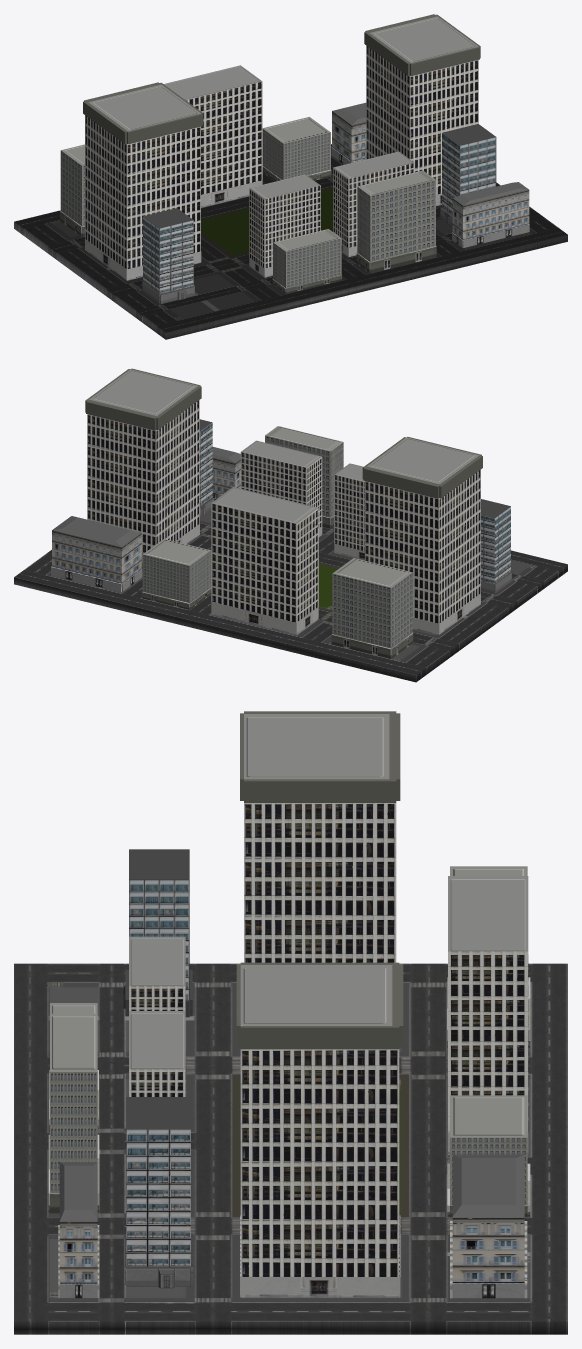
The model's file is input.glb.
3 renders of one model, top to bottom at view 1: azimuth 30°, elevation 25°; view 2: azimuth 150°, elevation 25°; view 3: azimuth 270°, elevation 25°, orthographic. The views are drawn at different scales.
Parts seen in each view (by area): view 1: Plane001_Mesh, Box087_Mesh.014, Box072_Mesh.002, Box086_Mesh.013, Box079_Mesh.007, Box076_Mesh.004, Box067_Mesh.001, Box075_Mesh.003, Box085_Mesh.012, Box088_Mesh.015, Box078_Mesh.006, Box077_Mesh.005 (+2 smaller); view 2: Box087_Mesh.014, Box072_Mesh.002, Plane001_Mesh, Box086_Mesh.013, Box089_Mesh.016, Box090_Mesh.017, Box077_Mesh.005, Box088_Mesh.015, Box076_Mesh.004, Box067_Mesh.001, Box079_Mesh.007, Box085_Mesh.012 (+1 smaller); view 3: Plane001_Mesh, Box072_Mesh.002, Box087_Mesh.014, Box086_Mesh.013, Box085_Mesh.012, Box090_Mesh.017, Box079_Mesh.007, Box067_Mesh.001, Box075_Mesh.003, Box088_Mesh.015, Box077_Mesh.005, Box076_Mesh.004 (+1 smaller).
Part boxes in pixels (x1,y1,x2,y2): Plane001_Mesh: [14, 144, 567, 339]; Box087_Mesh.014: [83, 82, 203, 280]; Box072_Mesh.002: [364, 14, 480, 205]; Box086_Mesh.013: [164, 65, 262, 207]; Box079_Mesh.007: [356, 170, 436, 273]; Box076_Mesh.004: [249, 174, 320, 277]; Box067_Mesh.001: [142, 208, 194, 303]; Box075_Mesh.003: [452, 182, 529, 247]; Box085_Mesh.012: [440, 124, 496, 226]; Box088_Mesh.015: [262, 117, 331, 181]; Box078_Mesh.006: [272, 229, 341, 293]; Box077_Mesh.005: [333, 151, 414, 257]; Box087_Mesh.014: [362, 436, 482, 634]; Box072_Mesh.002: [85, 368, 201, 563]; Plane001_Mesh: [14, 510, 567, 682]; Box086_Mesh.013: [211, 487, 318, 635]; Box089_Mesh.016: [331, 558, 413, 658]; Box090_Mesh.017: [51, 516, 142, 592]; Box077_Mesh.005: [240, 440, 322, 536]; Box088_Mesh.015: [142, 539, 211, 609]; Box076_Mesh.004: [334, 463, 364, 560]; Box067_Mesh.001: [481, 499, 512, 593]; Box079_Mesh.007: [265, 426, 343, 528]; Box085_Mesh.012: [199, 419, 214, 517]; Plane001_Mesh: [14, 963, 567, 1334]; Box072_Mesh.002: [236, 962, 403, 1297]; Box087_Mesh.014: [240, 711, 400, 962]; Box086_Mesh.013: [448, 876, 528, 1155]; Box085_Mesh.012: [125, 1097, 193, 1288]; Box090_Mesh.017: [450, 1154, 527, 1298]; Box079_Mesh.007: [48, 1013, 99, 1213]; Box067_Mesh.001: [123, 849, 192, 1017]; Box075_Mesh.003: [58, 1162, 99, 1298]; Box088_Mesh.015: [447, 1095, 530, 1216]; Box077_Mesh.005: [129, 1011, 185, 1096]; Box076_Mesh.004: [129, 936, 185, 1010].
Size of the model in its own units: 121 by 44.93 by 79.23.
5 materials, 5 textured.
